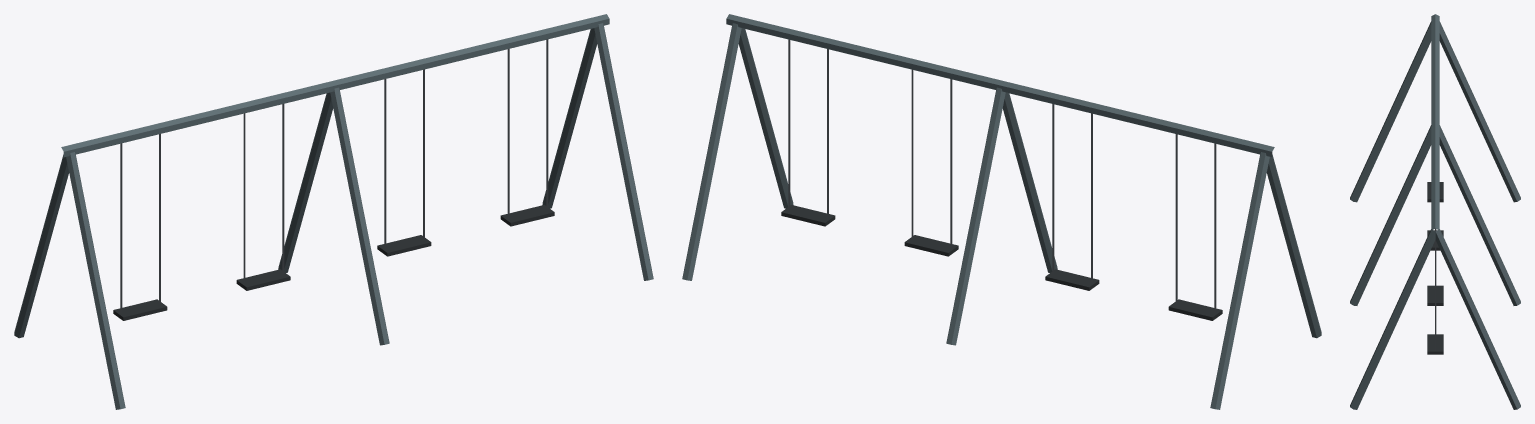
The model's file is swings-DQ8cwlvu.glb.
3 renders of one model, left to right at view 1: azimuth 30°, elevation 25°; view 2: azimuth 150°, elevation 25°; view 3: azimuth 270°, elevation 25°, orthographic. The views are drawn at different scales.
Parts seen in each view (by area): view 1: swings; view 2: swings; view 3: swings.
Part boxes in pixels (x1,y1,x2,y2): swings: (14, 14, 653, 409); swings: (682, 14, 1321, 409); swings: (1350, 14, 1520, 409).
Size of the model in its own units: 6.2 by 2.48 by 2.09.
